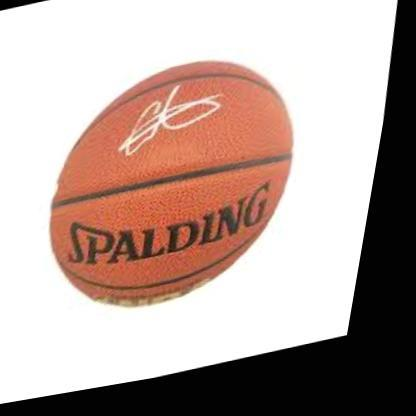basketball: (37, 49, 320, 336)
